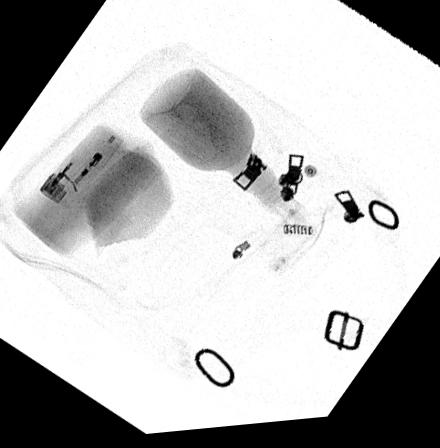Lighter: (38, 127, 123, 215)
